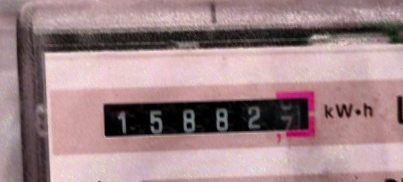1: (114, 106, 129, 134)
2: (245, 102, 262, 130)
5: (146, 106, 165, 134)
7: (278, 111, 294, 129)
8: (179, 106, 196, 134), (213, 104, 229, 132)
screen: (89, 82, 325, 149)
